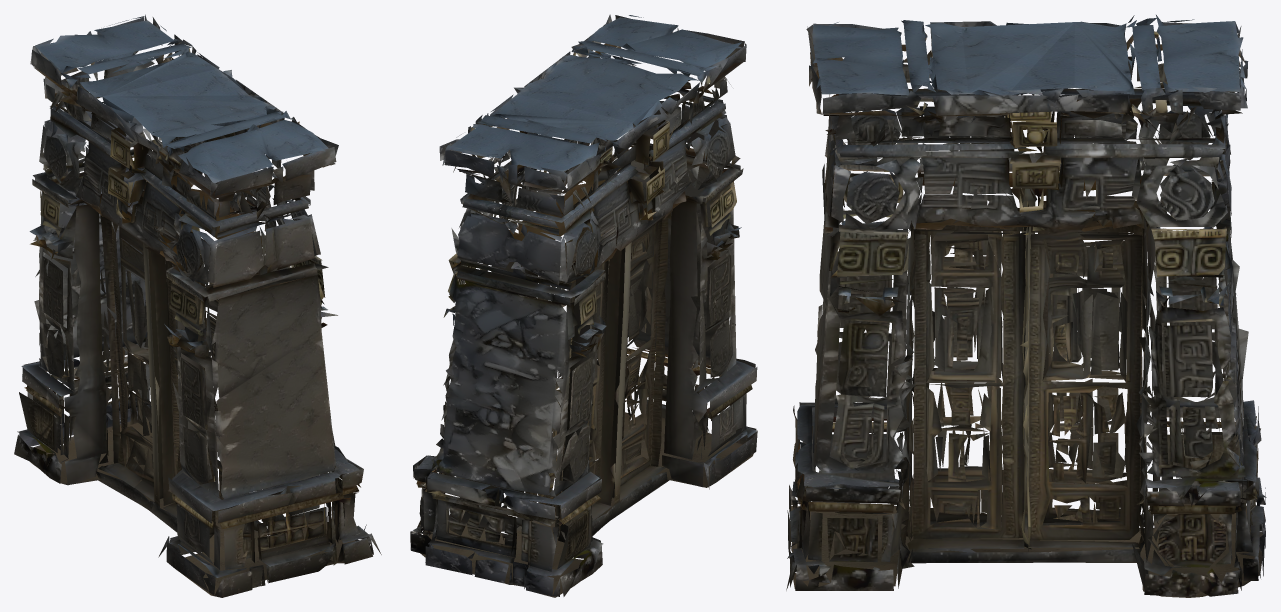
The model's file is ch2_inscribed_vaelor_gate_LOD2.glb.
3 views of the same model, side by side, from view 1: azimuth 30°, elevation 25°; view 2: azimuth 150°, elevation 25°; view 3: azimuth 270°, elevation 25° (orthographic). The views are drawn at different scales.
Parts seen in each view (by area): view 1: tripo_node_77248afa-edcf-4560-a30d-d174774ffb73; view 2: tripo_node_77248afa-edcf-4560-a30d-d174774ffb73; view 3: tripo_node_77248afa-edcf-4560-a30d-d174774ffb73.
Part boxes in pixels (x1,y1,x2,y2): tripo_node_77248afa-edcf-4560-a30d-d174774ffb73: (14,14,381,597); tripo_node_77248afa-edcf-4560-a30d-d174774ffb73: (410,14,757,597); tripo_node_77248afa-edcf-4560-a30d-d174774ffb73: (786,15,1266,597).
Bounding box in the file's own units: 0.4359 × 1.01 × 0.8898.
Materials: 1 (1 with a texture image).
